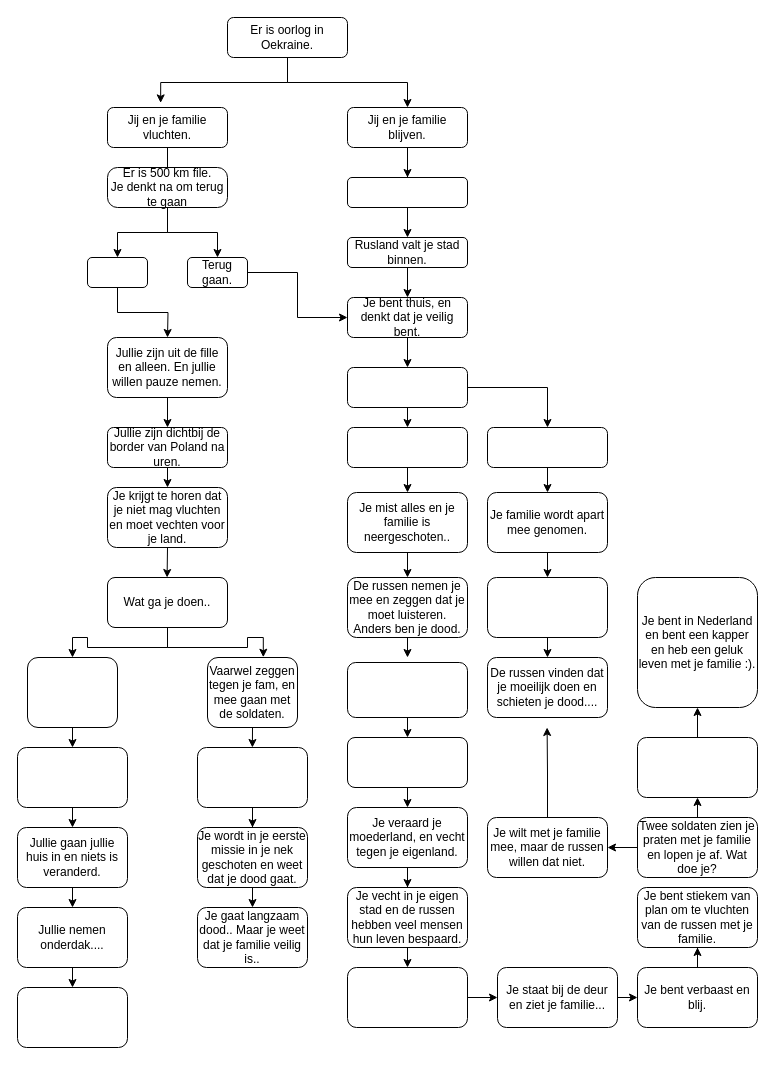
The diagram is 775 pixels wide and 1065 high, and some of its shapes have lost their labels. The centre of each missing label's shape, as x and y in pixels:
Geeft je over.: [547,447]
Je bent na dagen weer thuis. En alles van je stad is stuk..: [72,777]
Je gaat met je familie terug naar jullie huis.: [72,692]
Je hebt geen keus en gaat mee.: [407,762]
Je hoort veel bomben en je bent bang.: [407,192]
Je luisterd en ze willen dat je mee gaat vechten met de russen..: [407,690]
Je mist je familie en je neemt een kijkje naar je oude huis.: [407,997]
Je schiet ze beide dood, en vlucht met je familie naar Nederland.: [697,767]
Je vecht de soldaten af, omdat ze je familie meenemen.: [547,607]
Na een jaar onderdak genomen te hebben, komen de russen erachter.: [72,1017]
Soldaten vallen je huis binnen. Wat doe je?: [407,387]
Vecht terug met revolver.: [407,447]
Verder gaan.: [117,272]
Ze trainen je voor weken lang. En je moet naar de frontline.: [252,777]
